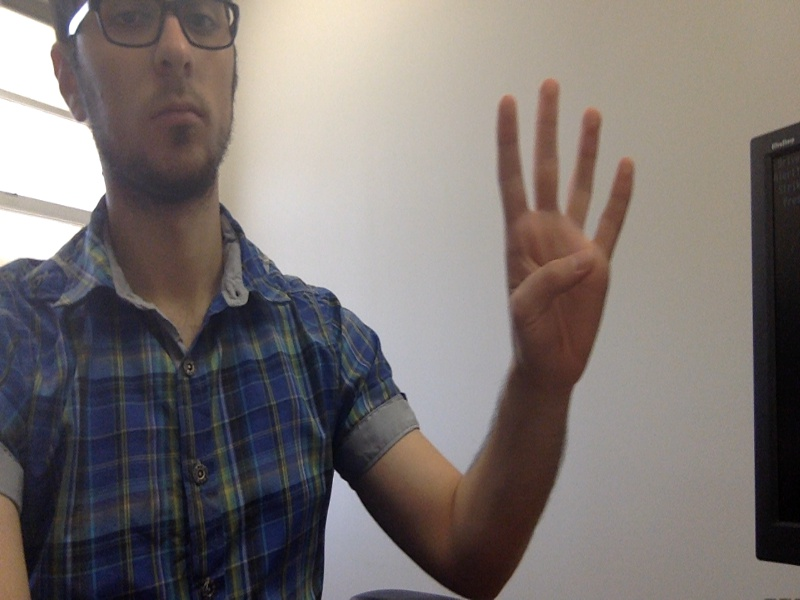4-hand: (496, 79, 639, 381)
